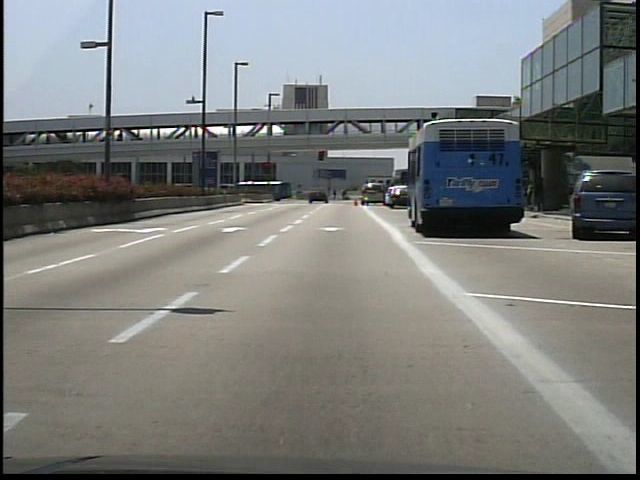person: (532, 175, 547, 211), (340, 186, 353, 201), (333, 186, 334, 202)
